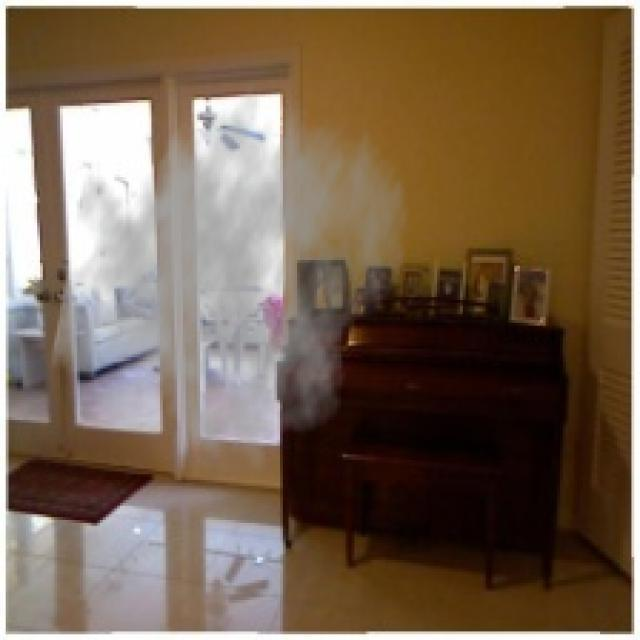Smoke: (49, 66, 412, 477)
